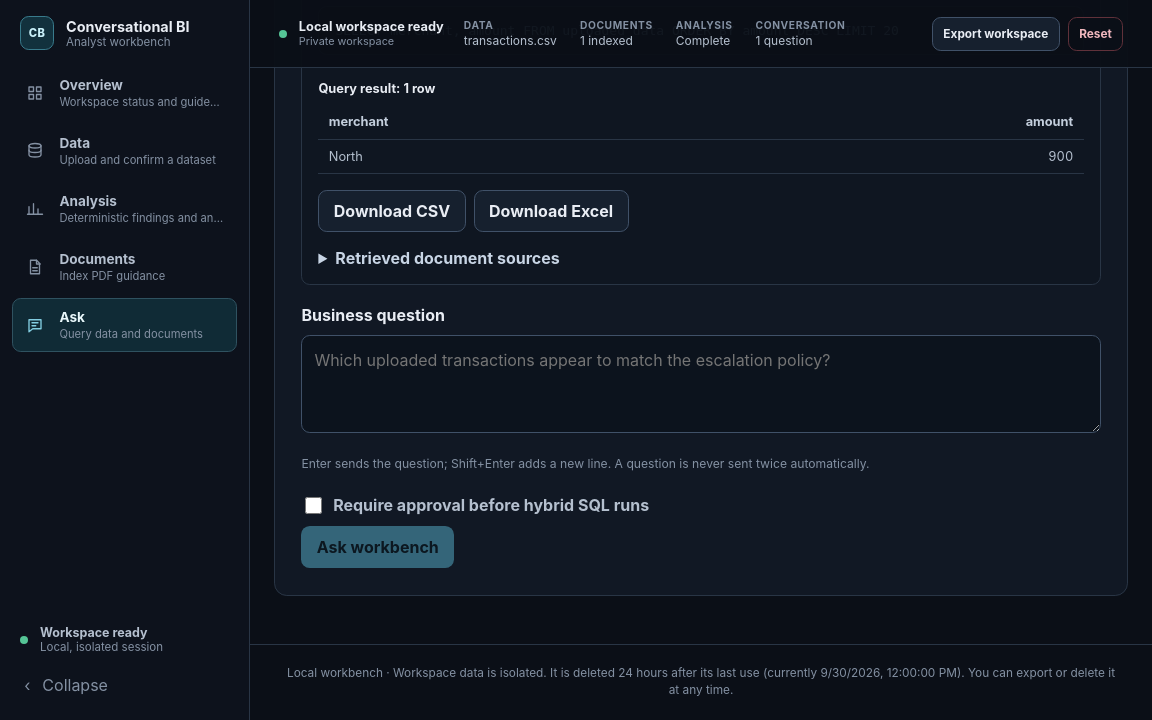
Test case: asking a question › a refused question is definite: shown as failed, not saved, with the text back for editing
(page scrolled)
In the text box labelled "Business question": (701, 384) [301,335,1101,433], type "What is the total revenue?"
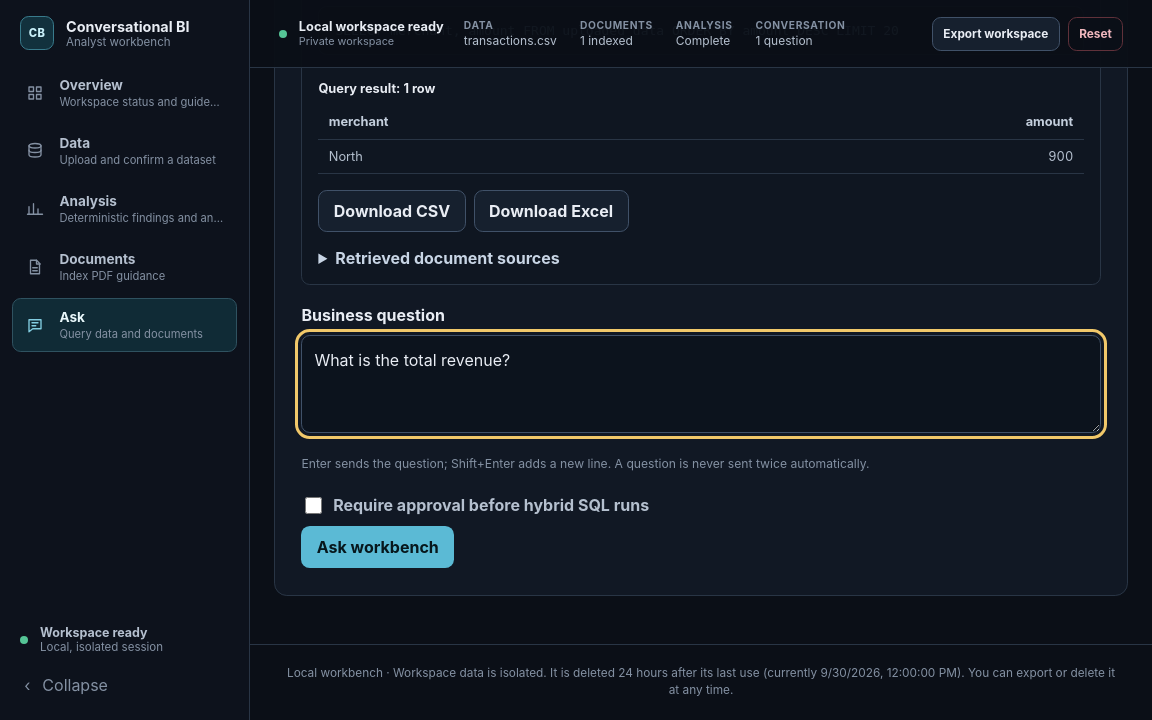
Click the button "Ask workbench": (378, 547) [301,526,454,568]
(page scrolled)
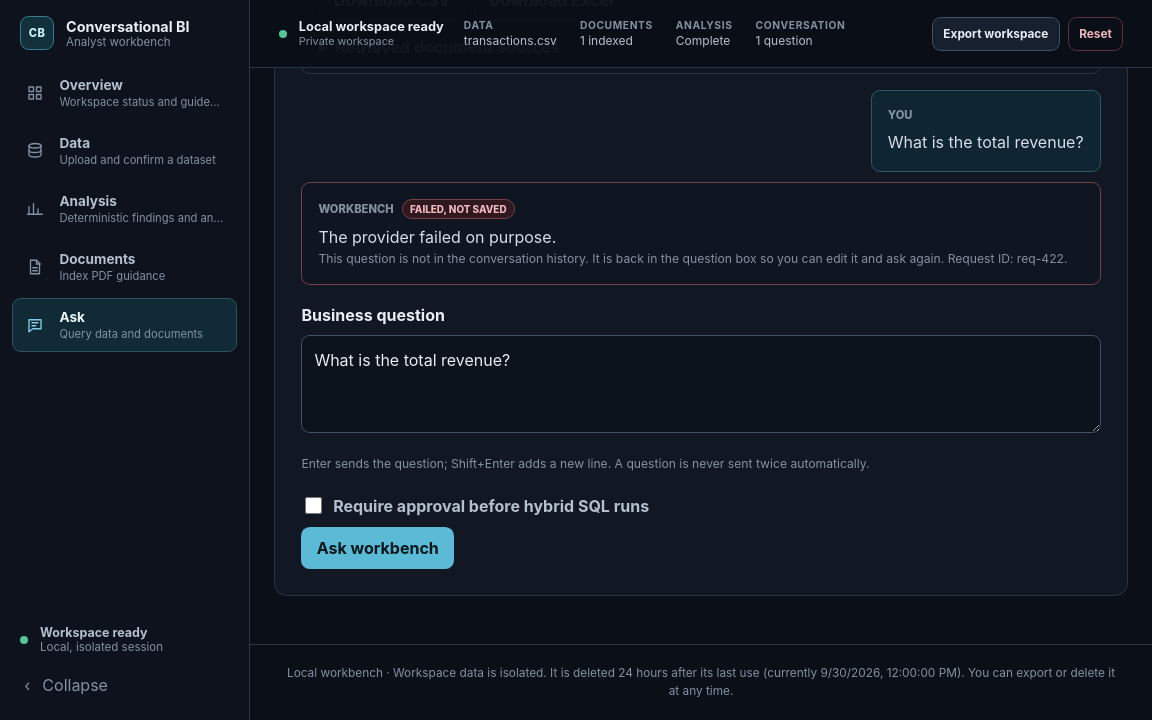
Expected: the text box labelled "Business question" is enabled, [301,335,1101,433]
Expected: the element named "Question failed" shows "Failed, not saved", [410,203,507,215]
Expected: the element named "Question failed" shows "Request ID: req-422", [944,251,1068,266]
